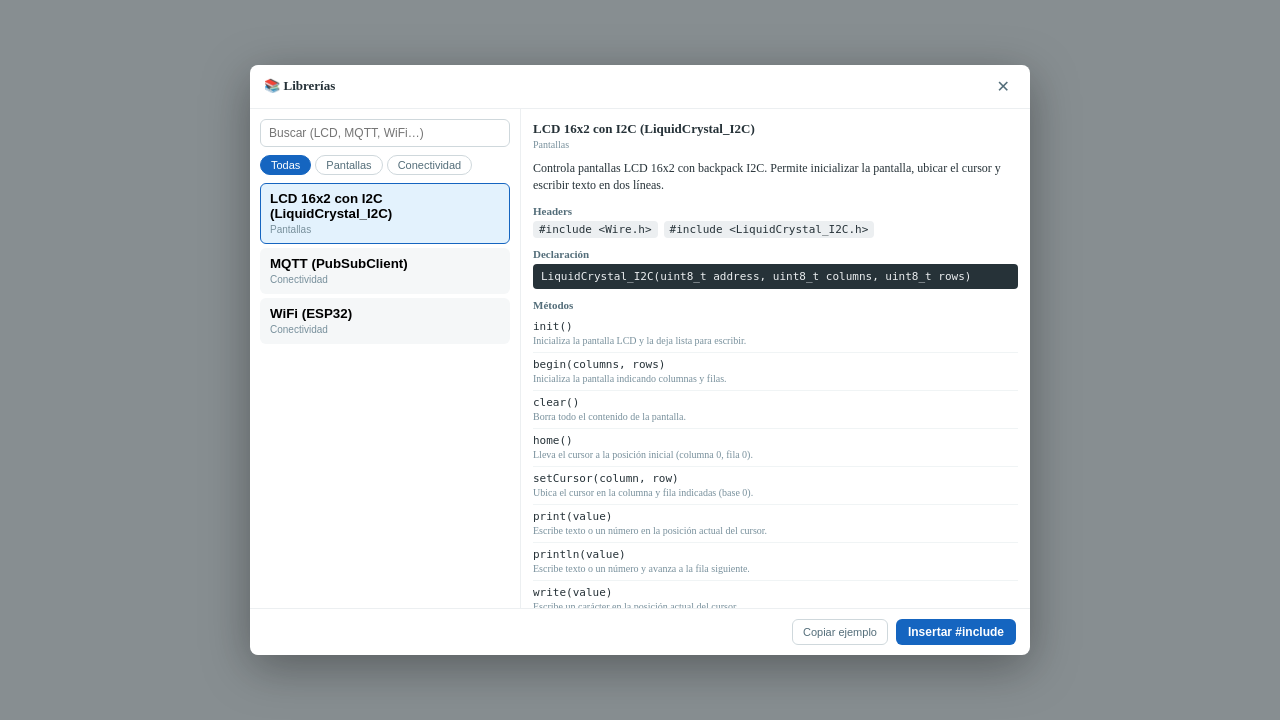
Scenario: LibraryModal › “Copiar ejemplo” escribe el ejemplo en el portapapeles
The width and height of the screenshot is (1280, 720).
Step 1. Click the button "Copiar ejemplo" → (840, 632), box [792,619,888,645]
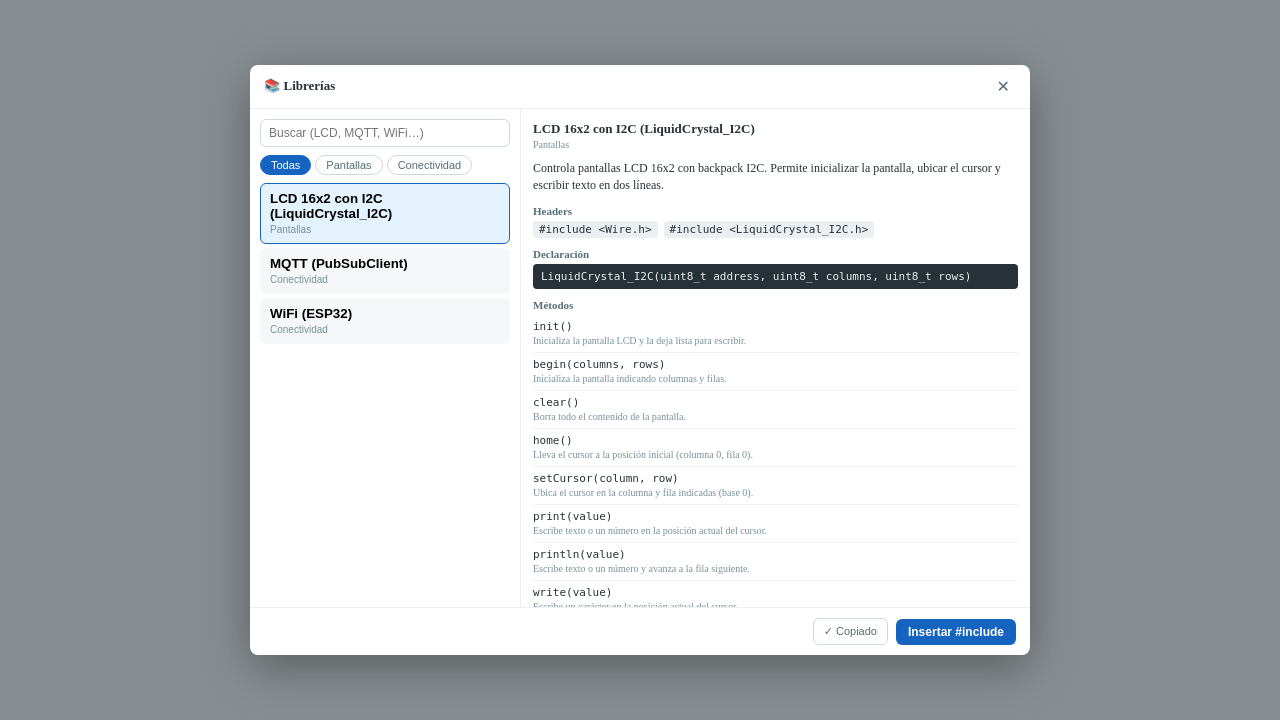
Now the text "✓ Copiado" is shown, box [813,618,888,645]
